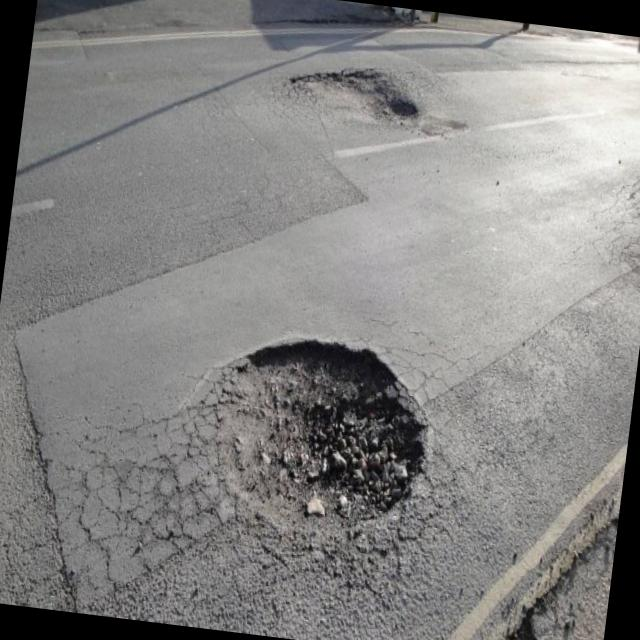Potholes: (161, 262, 448, 580), (289, 52, 439, 160)
